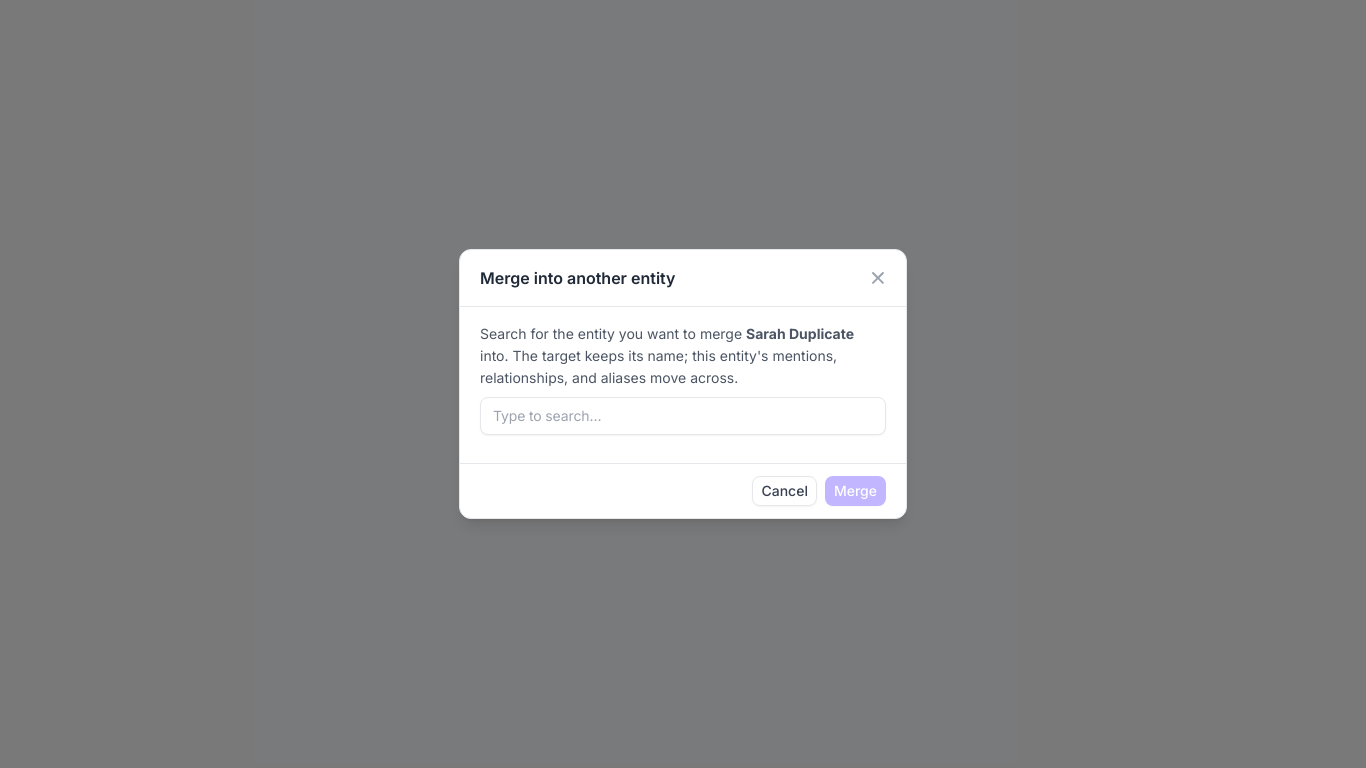
EntityMergeIntoDialog › shows an empty-state when no candidates match
Type "Nope" into the field with test id "merge-into-search" at coordinates (683, 416), box [480,397,886,435]
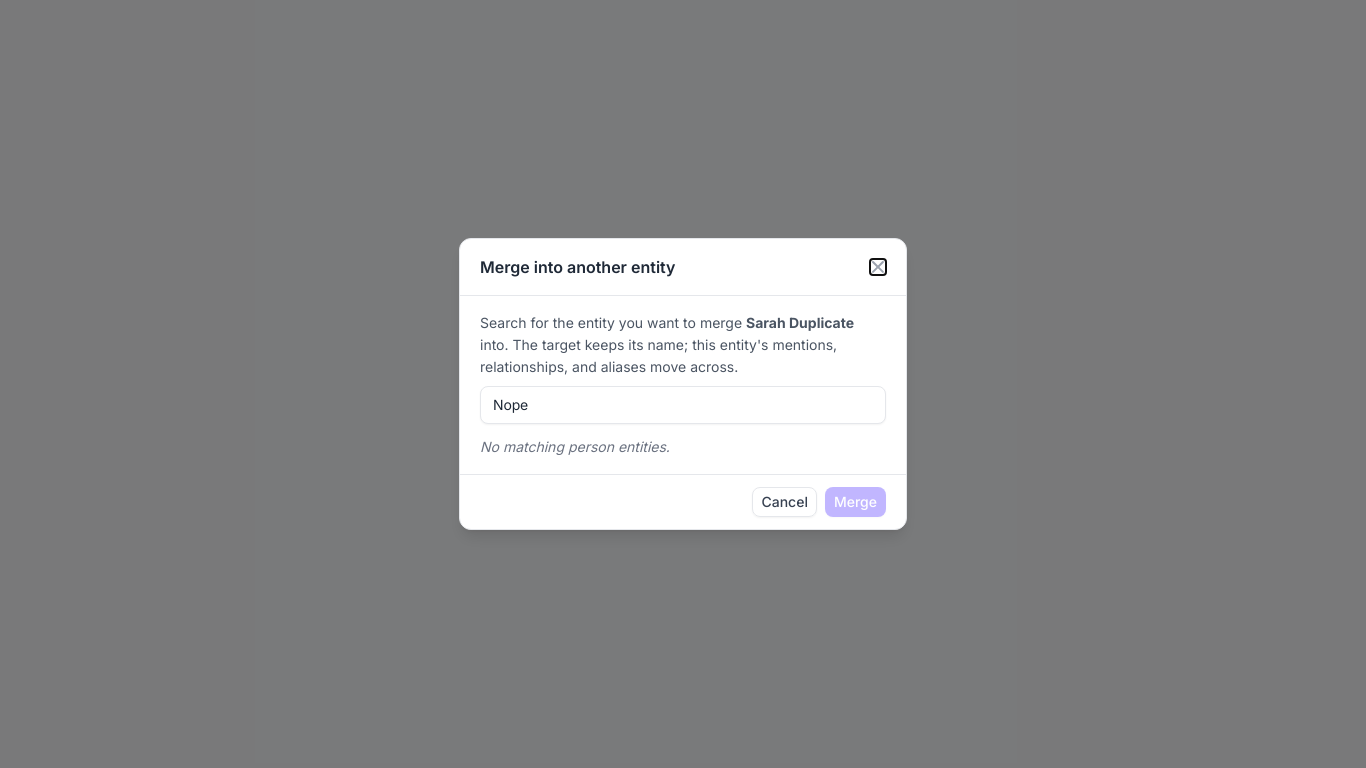
Expected: the text "No matching person entities." is shown, [480,438,670,455]
